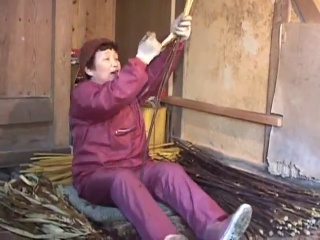person: (56, 24, 245, 240)
